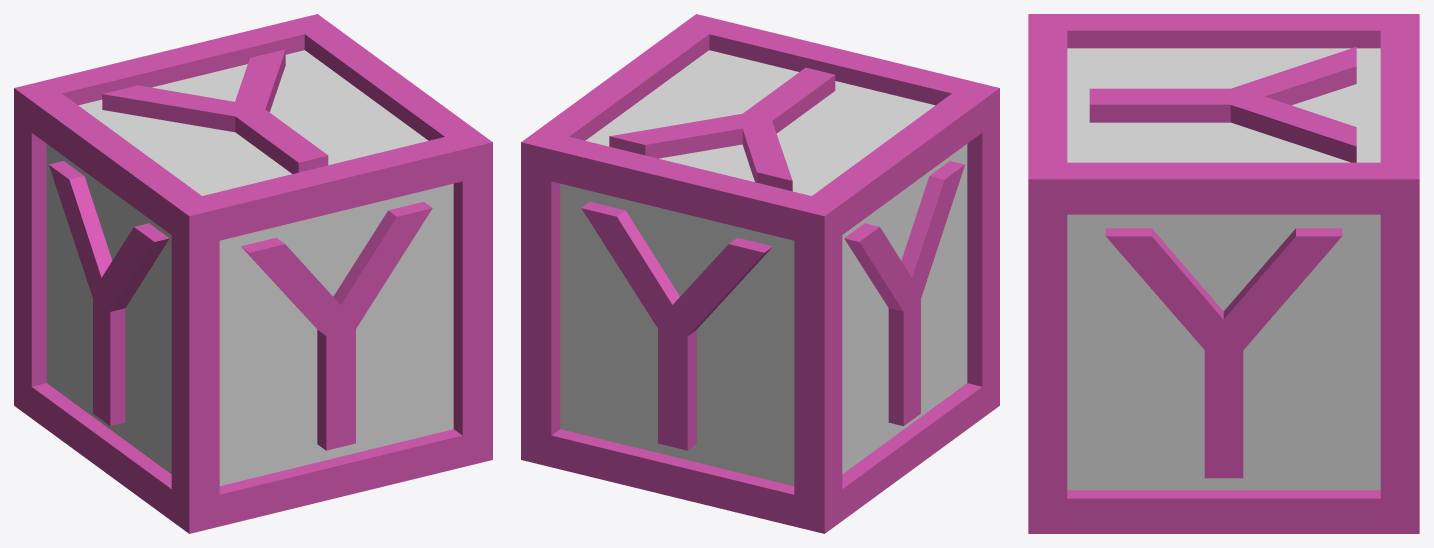
3 renders of one model, left to right at view 1: azimuth 30°, elevation 25°; view 2: azimuth 150°, elevation 25°; view 3: azimuth 270°, elevation 25°, orthographic. The views are drawn at different scales.
Visible parts, largest first — view 1: Cube, Text.001, Text.002, Text; view 2: Cube, Text.004, Text.002, Text; view 3: Cube, Text.003, Text.
Boxes of the visible parts, left/top/right/bottom form: Cube: left=14, top=14, right=492, bottom=533; Text.001: left=241, top=201, right=432, bottom=450; Text.002: left=49, top=161, right=169, bottom=425; Text: left=102, top=49, right=328, bottom=173; Cube: left=521, top=14, right=999, bottom=533; Text.004: left=581, top=201, right=772, bottom=450; Text.002: left=844, top=161, right=964, bottom=425; Text: left=609, top=67, right=835, bottom=191; Cube: left=1028, top=14, right=1419, bottom=533; Text.003: left=1105, top=228, right=1342, bottom=478; Text: left=1089, top=47, right=1356, bottom=162.
Bounding box in the file's own units: 200 × 200 × 200.
